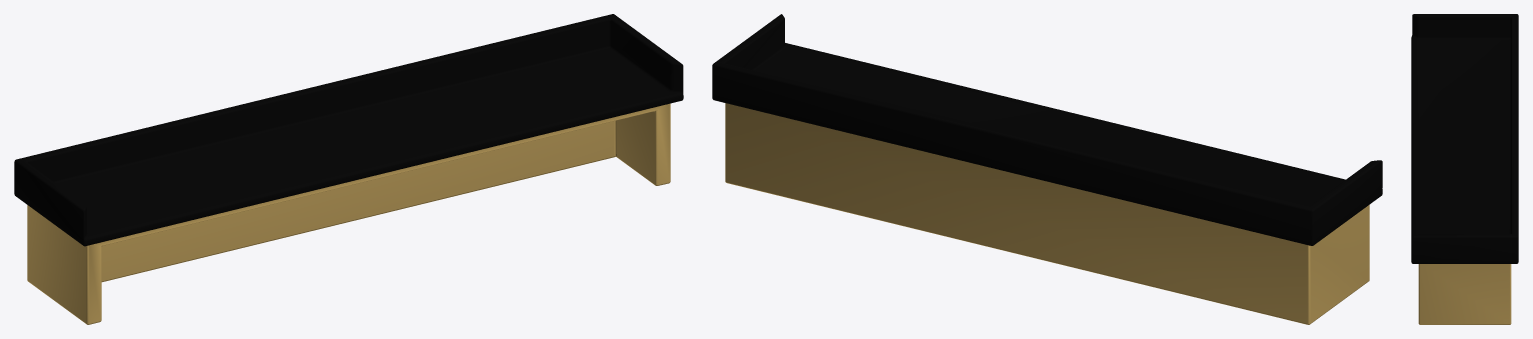
File: SM_ReceptionistDesk.fbx
3 renders of one model, left to right at view 1: azimuth 30°, elevation 25°; view 2: azimuth 150°, elevation 25°; view 3: azimuth 270°, elevation 25°, orthographic. The views are drawn at different scales.
Visible parts, largest first — view 1: ReceptionistDesk; view 2: ReceptionistDesk; view 3: ReceptionistDesk.
Part boxes in pixels (x1=…): ReceptionistDesk: x1=14, y1=14, x2=683, y2=324; ReceptionistDesk: x1=712, y1=14, x2=1382, y2=324; ReceptionistDesk: x1=1411, y1=14, x2=1518, y2=324.
Bounding box in the file's own units: 649 × 125 × 132.
